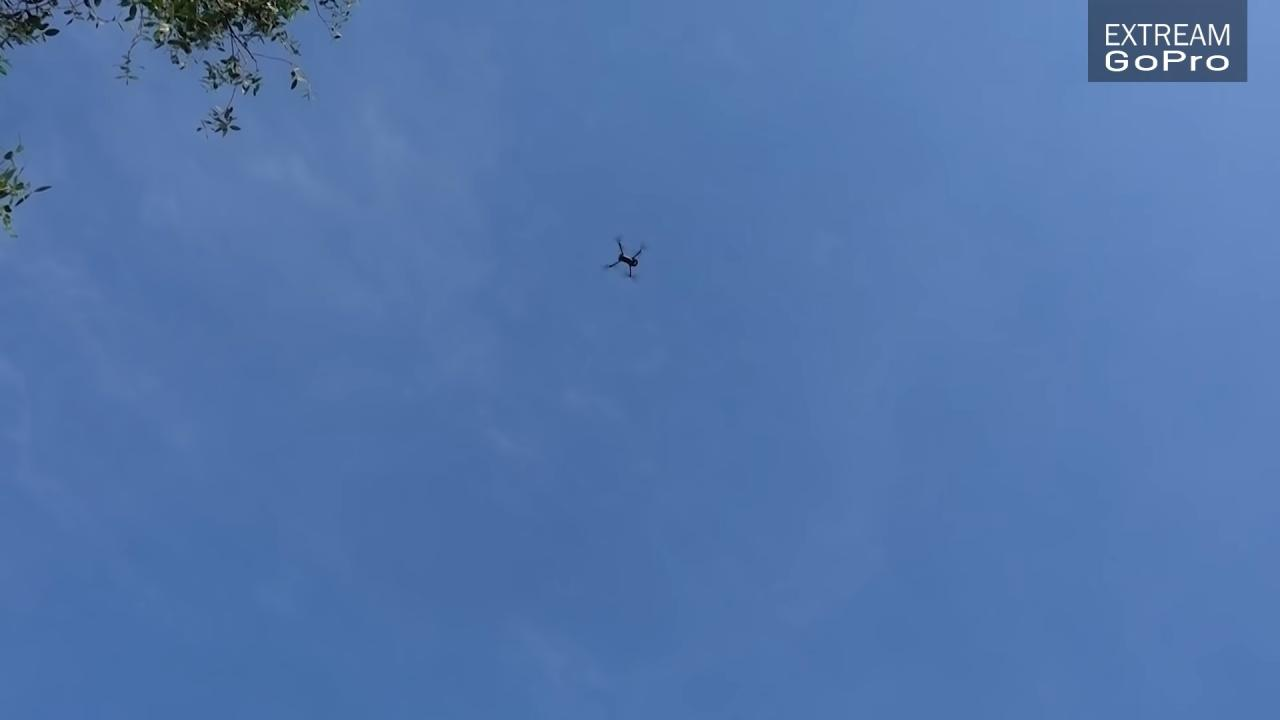Drone: (602, 231, 663, 276)
